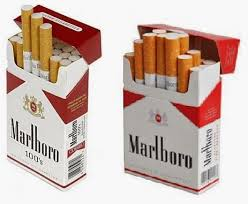marlboro: (122, 56, 200, 189), (4, 73, 66, 183)
